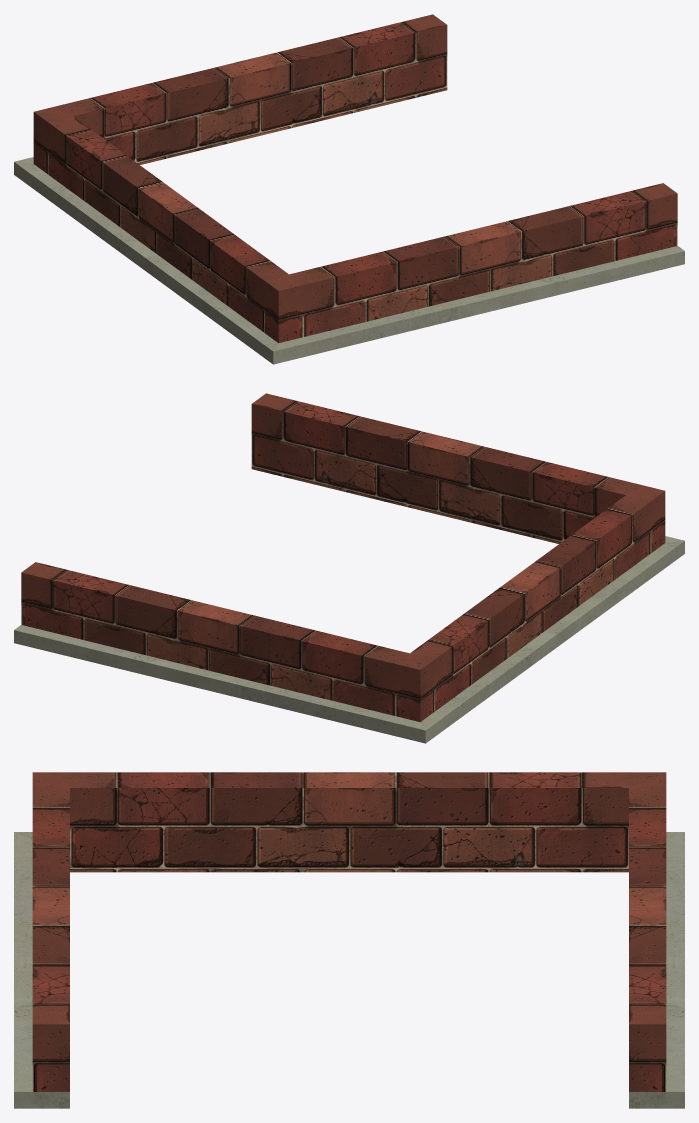
File: roof02_U.fbx
The picture shows the model from 3 angles, top to bottom: view 1: azimuth 30°, elevation 25°; view 2: azimuth 150°, elevation 25°; view 3: azimuth 270°, elevation 25°; orthographic projection. The views are drawn at different scales.
Parts seen in each view (by area): view 1: roof02_U; view 2: roof02_U; view 3: roof02_U.
Part boxes in pixels (box(x1,y1,x2,y2)): roof02_U: box(14, 14, 684, 364); roof02_U: box(14, 393, 684, 743); roof02_U: box(14, 772, 684, 1108).
Size of the model in its own units: 330 by 50 by 360.
